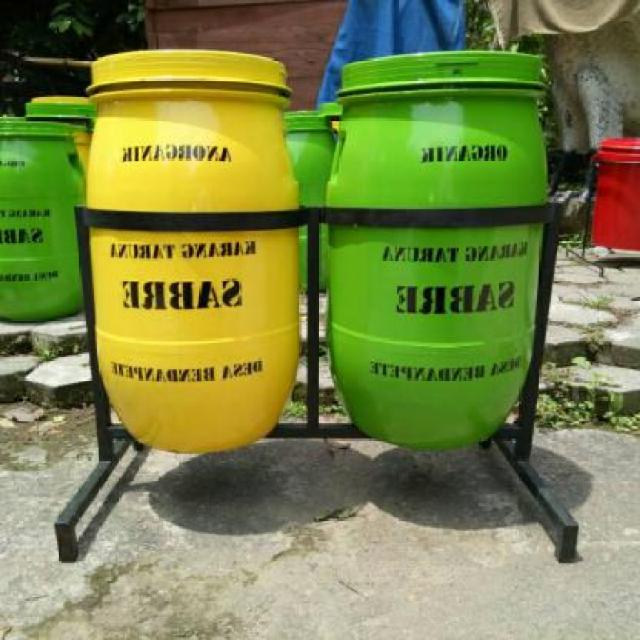garbage container: (71, 27, 303, 481), (324, 44, 564, 468)
